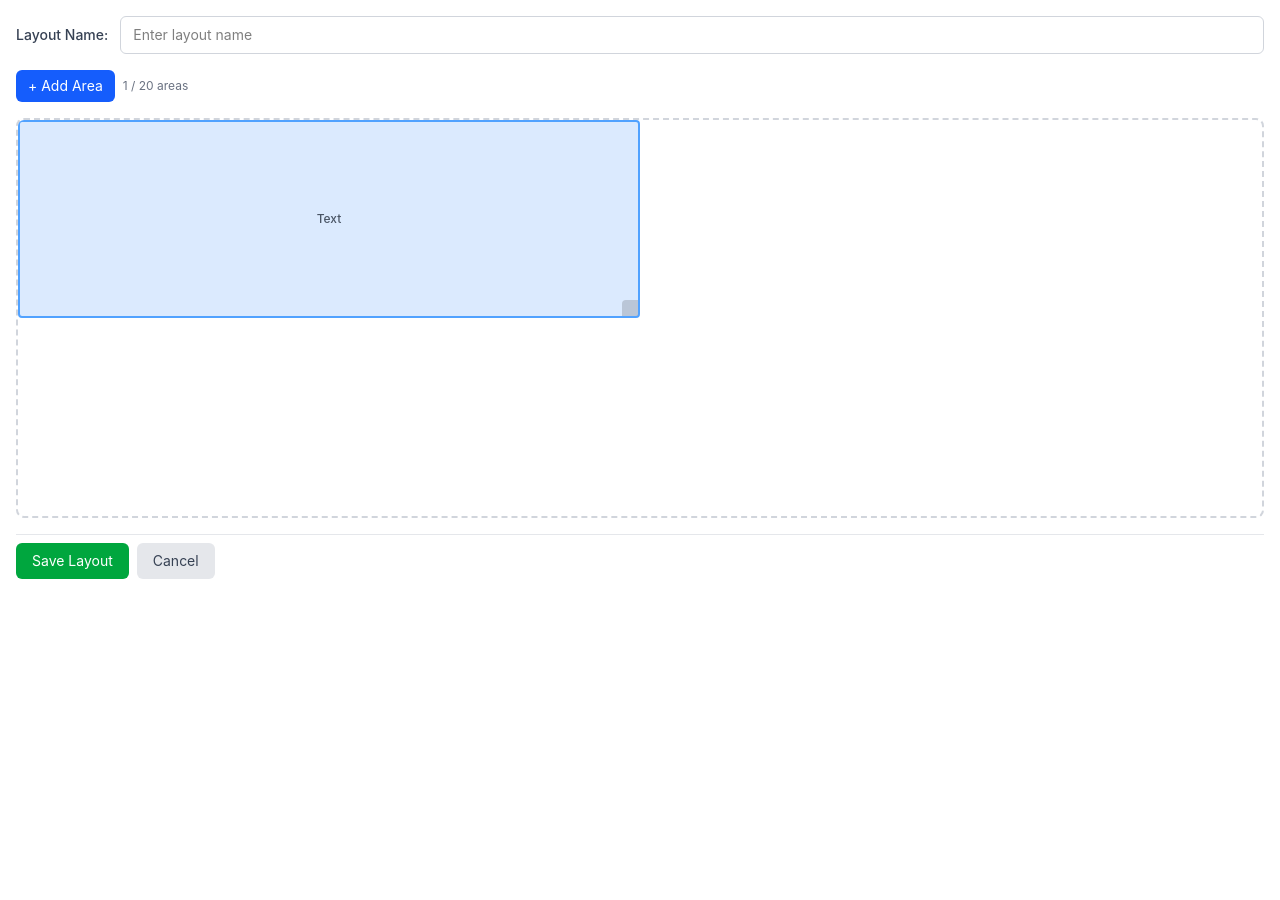
Test: LayoutEditor › Content Area Management › adds a content area when clicking add button
This screenshot has width=1280, height=900.
Click the button with aria-label "Add content area" at (65, 86), box x1=16 y1=70 x2=115 y2=102
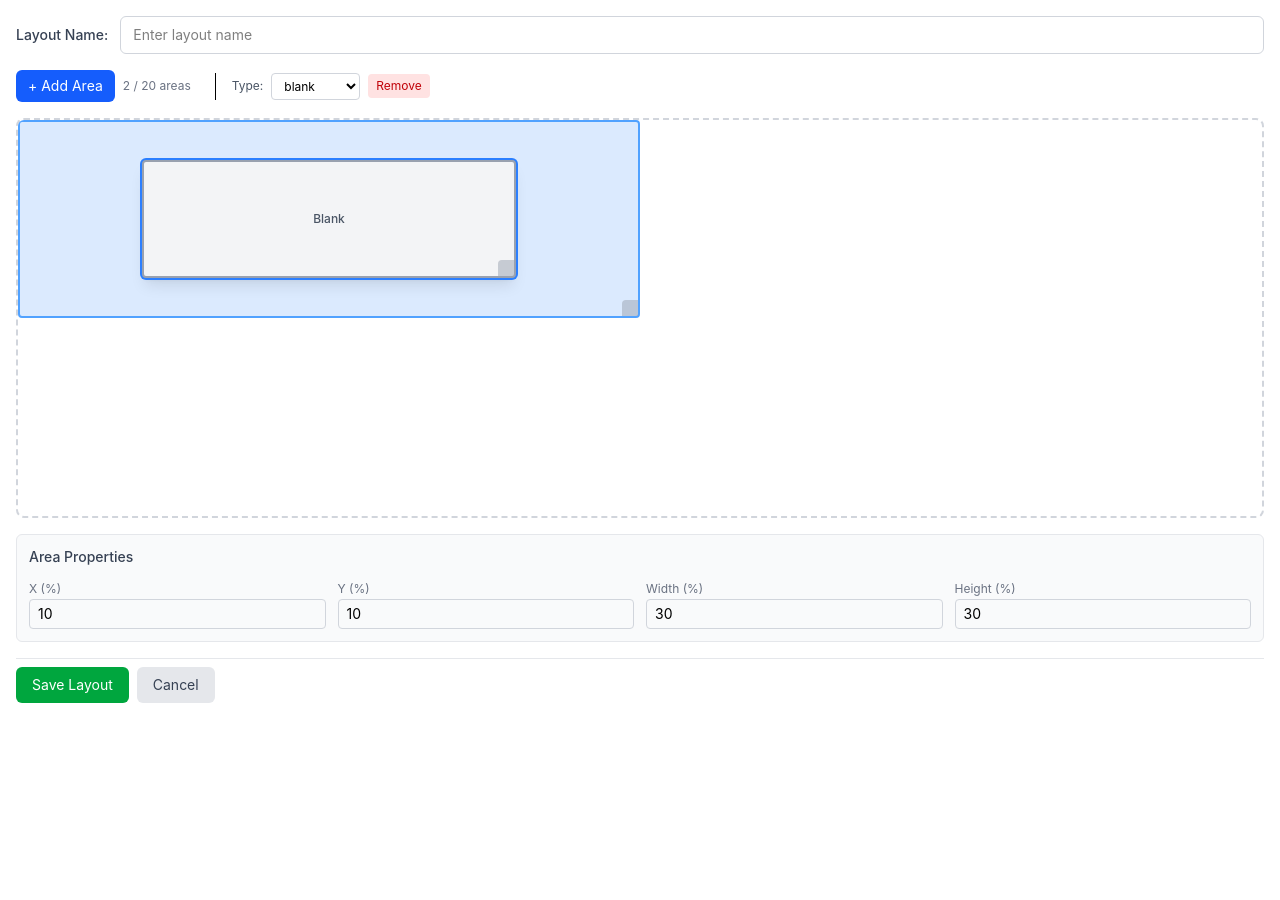
Check: the text "2 / 20 areas" is shown, box x1=123 y1=78 x2=191 y2=94
